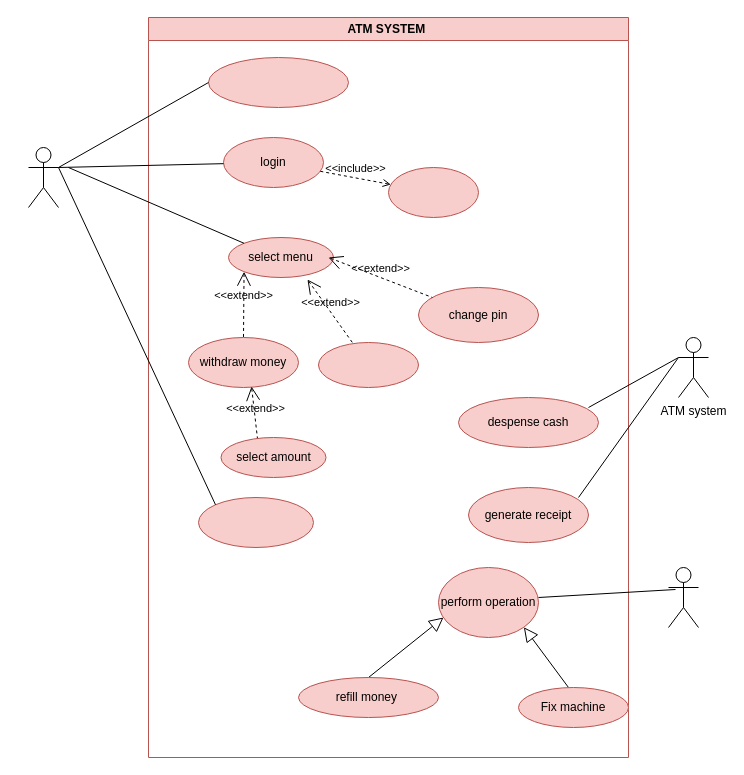
The diagram is 744 pixels wide and 775 high, and some of its shapes have lost their labels. The shapes that lost their labels are listed below. From the top down, each one's centre as x and y in pixels, then its label:
At pixel 278 82: "insert card".
At pixel 43 177: "Customer".
At pixel 433 192: "enter 4 digit pin".
At pixel 368 365: "view amout".
At pixel 256 522: "receive money".
At pixel 683 597: "ATM operator".
